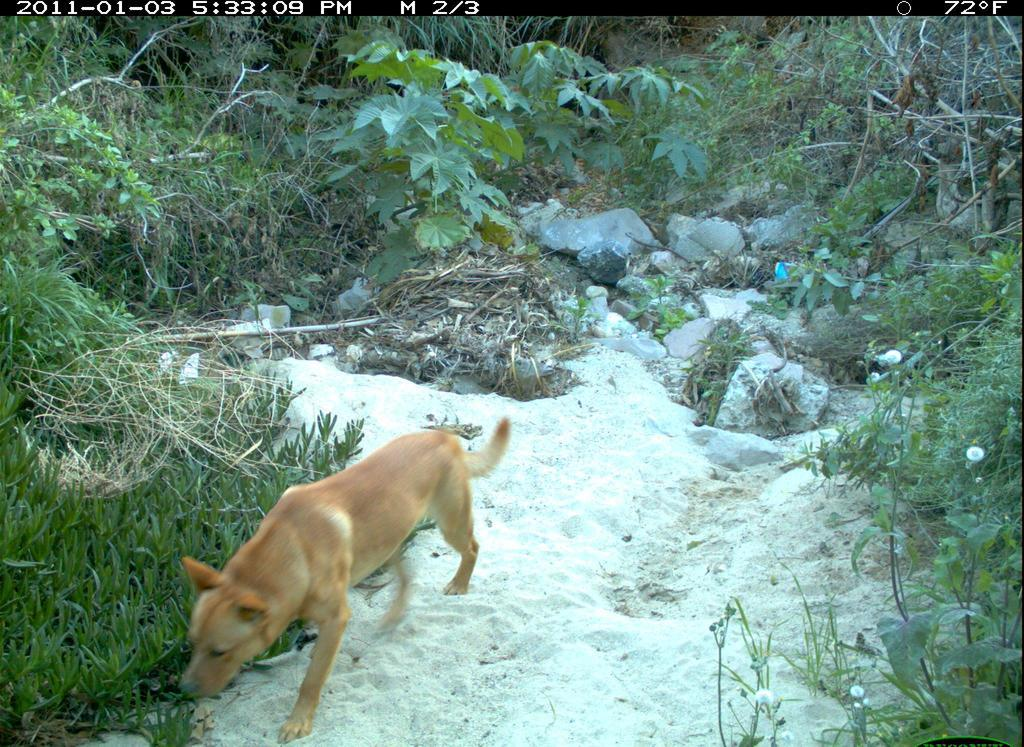dog: (158, 411, 523, 745)
